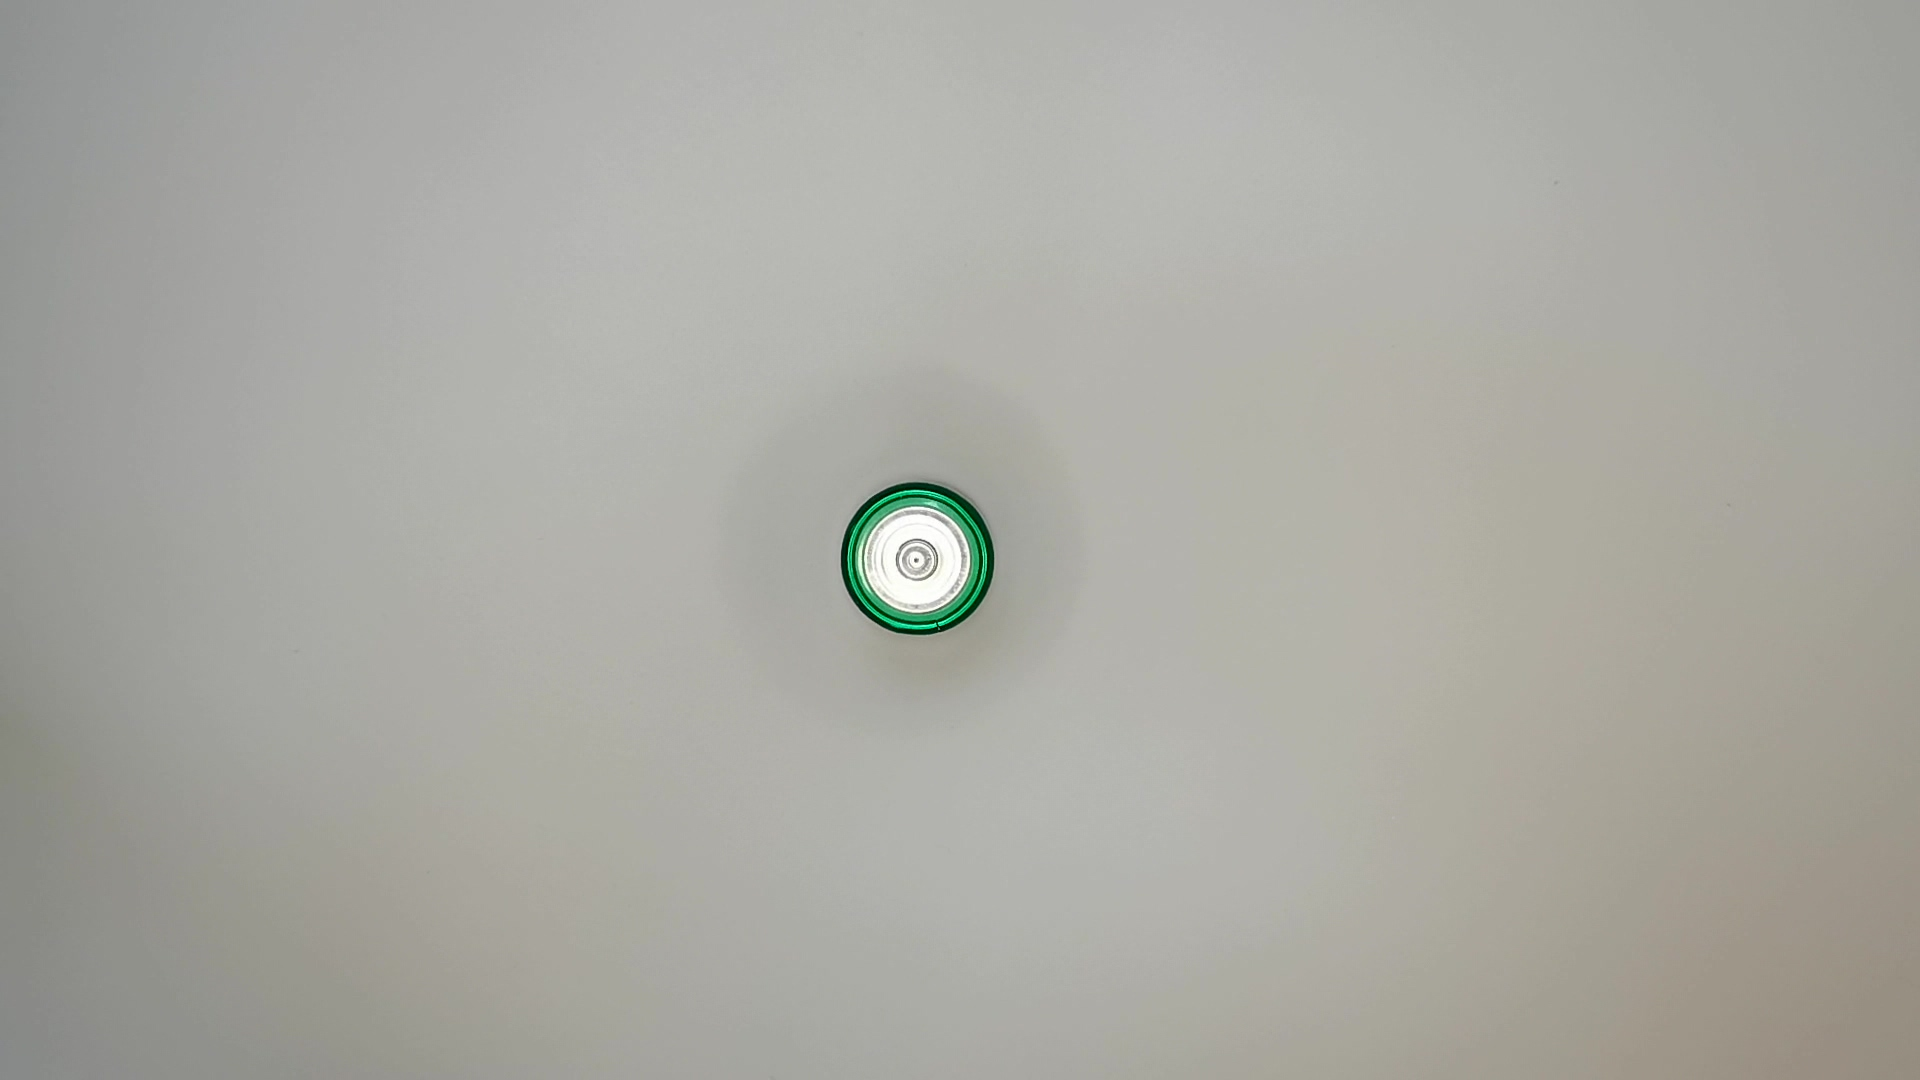battery: (836, 476, 1006, 642)
